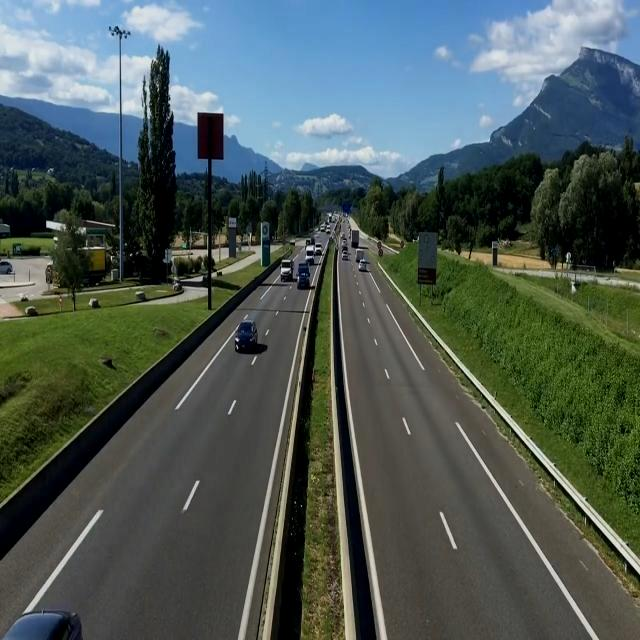Car: (1, 608, 81, 640), (234, 320, 258, 353), (297, 264, 311, 288), (280, 260, 293, 281), (358, 259, 368, 272), (314, 243, 322, 254), (342, 250, 350, 260), (341, 245, 348, 253)
Truck: (305, 246, 315, 265), (350, 229, 360, 248), (355, 249, 364, 263)
